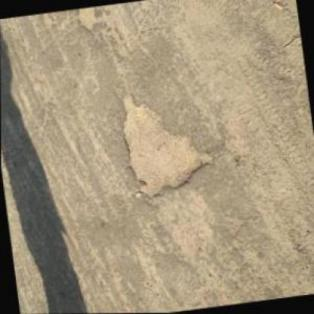Hueco: (114, 82, 219, 206), (76, 7, 101, 34)
